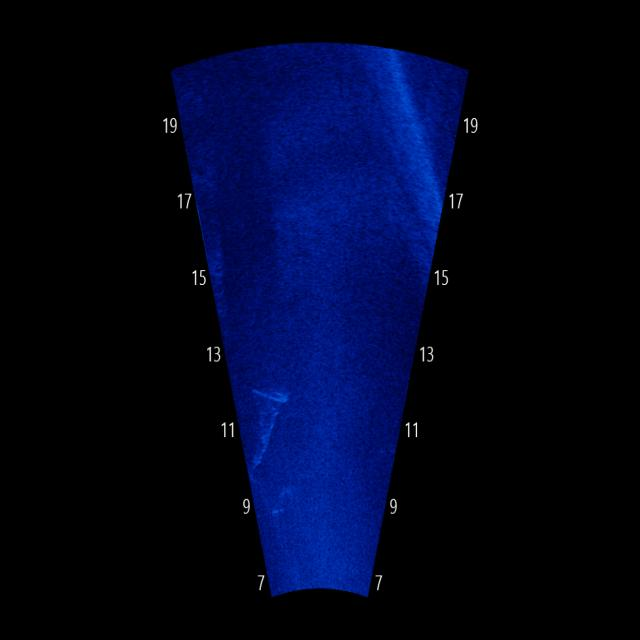triangle: (248, 386, 290, 472)
